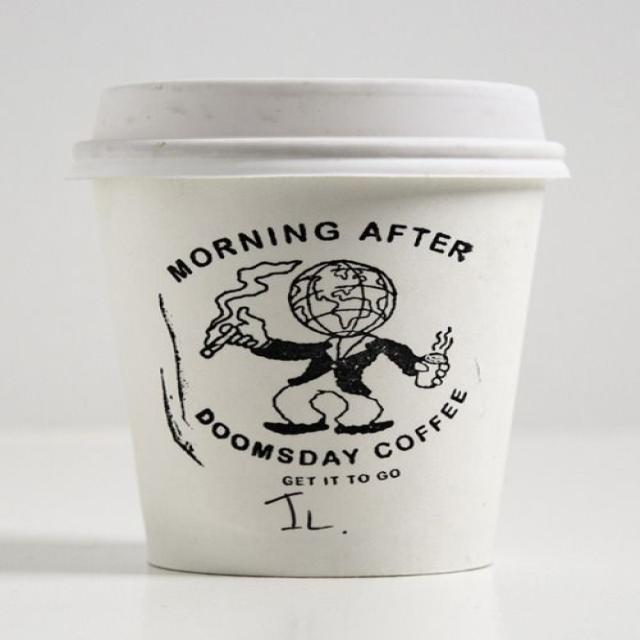paper cup: (64, 78, 573, 576)
